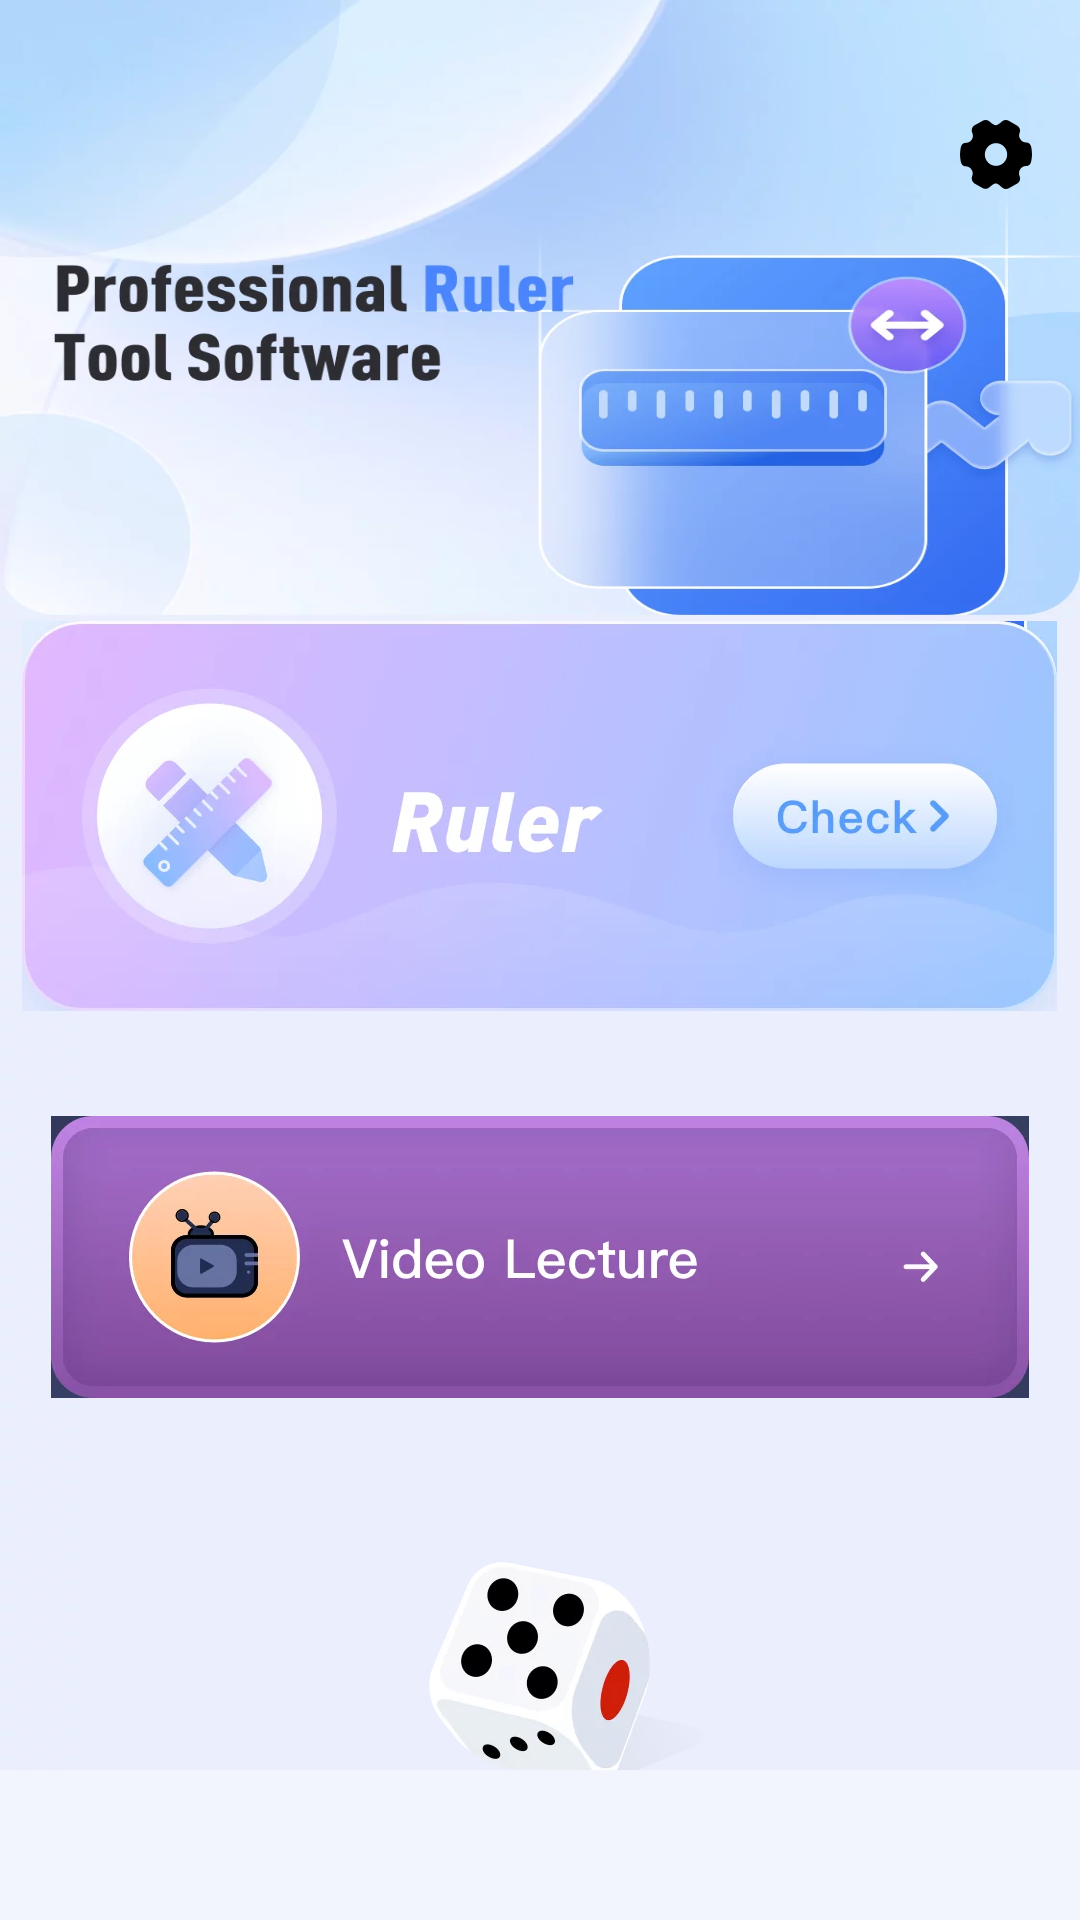

Point at icon controls on the screen. Image size 1080px×1920px, points as (x,y).
setting: (996,154)
